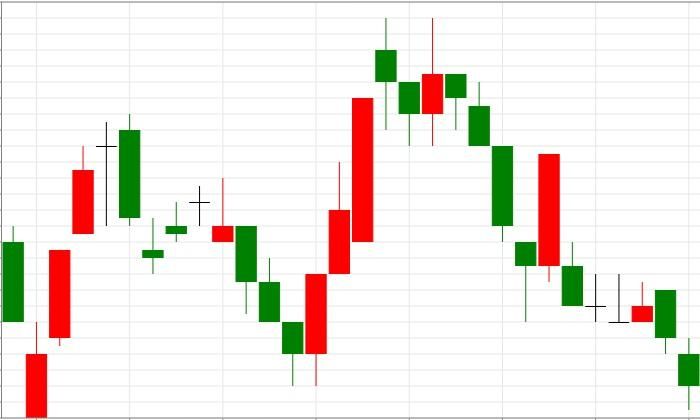three_white_soldiers_rise: (188, 97, 374, 386), (2, 146, 94, 417)
